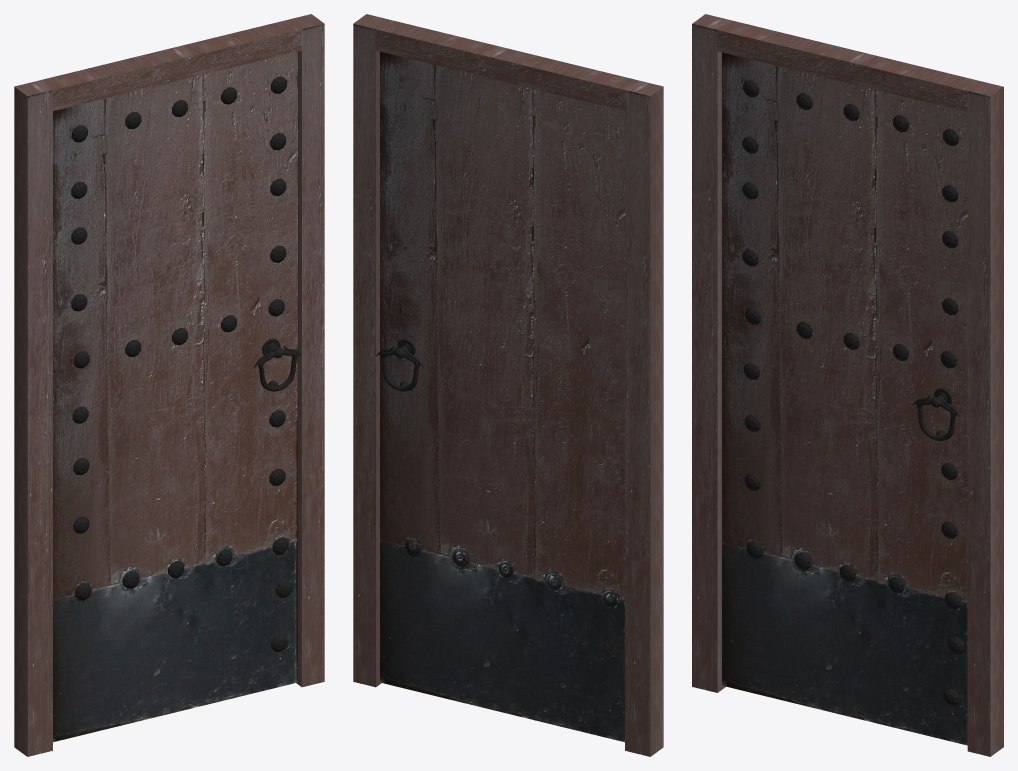
The model's file is old door9.FBX.
3 renders of one model, left to right at view 1: azimuth 30°, elevation 25°; view 2: azimuth 150°, elevation 25°; view 3: azimuth 330°, elevation 25°, orthographic.
Visible parts, largest first — view 1: Door9, old door9; view 2: Door9, old door9; view 3: Door9, old door9.
Part boxes in pixels (left/top/right/bottom): Door9: left=53, top=51, right=301, bottom=742; old door9: left=14, top=14, right=324, bottom=756; Door9: left=376, top=51, right=624, bottom=742; old door9: left=353, top=14, right=663, bottom=756; Door9: left=722, top=52, right=967, bottom=745; old door9: left=692, top=14, right=1003, bottom=756.
Size of the model in its own units: 979 by 144 by 2080.
